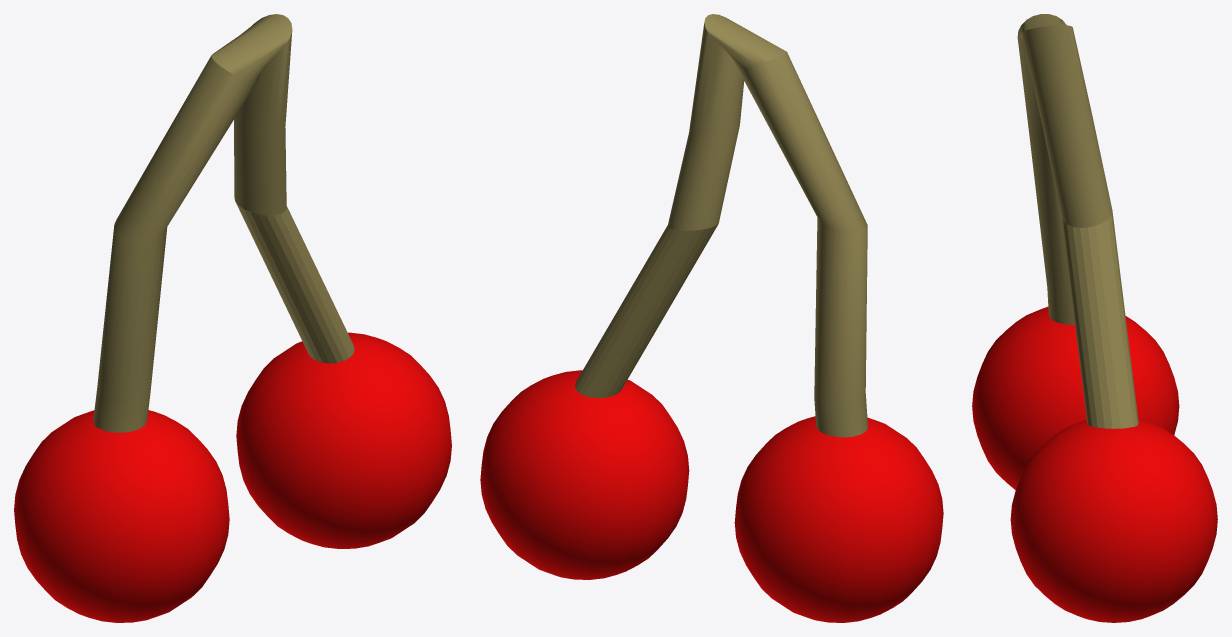
File: cherry_bomb.fbx
3 views of the same model, side by side, from view 1: azimuth 30°, elevation 25°; view 2: azimuth 150°, elevation 25°; view 3: azimuth 270°, elevation 25° (orthographic). The views are drawn at different scales.
Visible parts, largest first — view 1: pCylinder1, pSphere2, pSphere1; view 2: pCylinder1, pSphere1, pSphere2; view 3: pSphere2, pCylinder1, pSphere1.
Boxes of the visible parts, left/top/right/bottom form: pCylinder1: left=93, top=14, right=354, bottom=432; pSphere2: left=236, top=332, right=451, bottom=548; pSphere1: left=14, top=410, right=229, bottom=622; pCylinder1: left=575, top=14, right=867, bottom=437; pSphere1: left=734, top=416, right=943, bottom=622; pSphere2: left=480, top=370, right=689, bottom=579; pSphere2: left=1010, top=419, right=1217, bottom=622; pCylinder1: left=1017, top=14, right=1138, bottom=428; pSphere1: left=972, top=306, right=1179, bottom=489.
Bounding box in the file's own units: 18.54 × 23.46 × 9.59.
